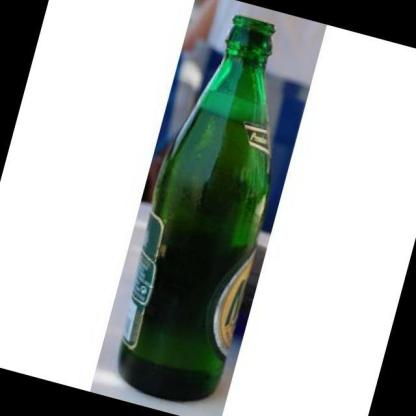Can: (118, 13, 277, 403)
